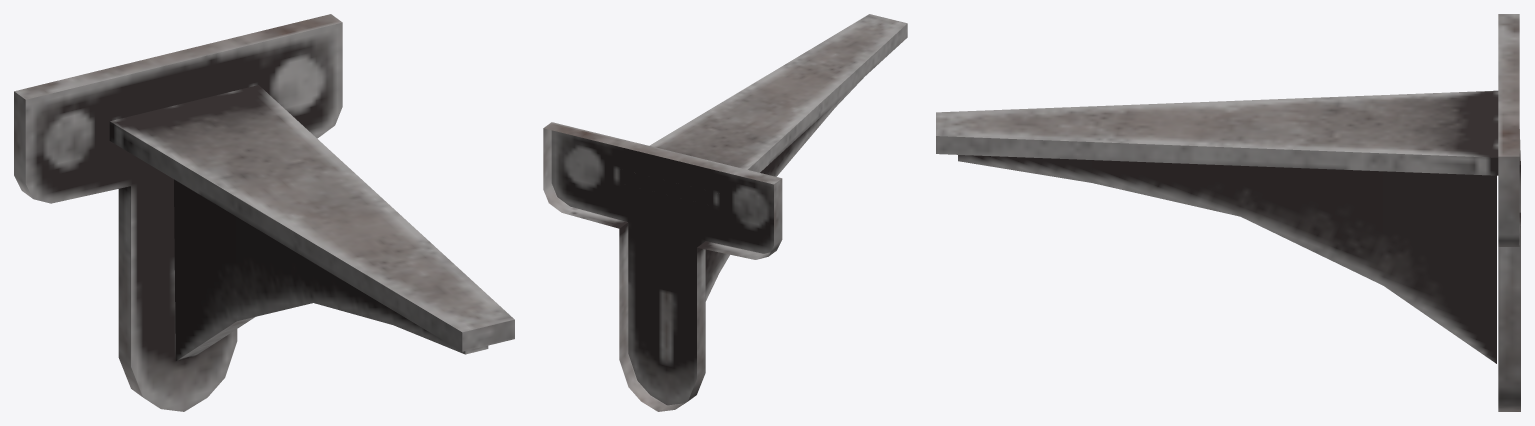
Rendered from NM_ThinTube_WallConnector_01.fbx.
3 views of the same model, side by side, from view 1: azimuth 30°, elevation 25°; view 2: azimuth 150°, elevation 25°; view 3: azimuth 270°, elevation 25° (orthographic). The views are drawn at different scales.
Parts seen in each view (by area): view 1: Tube_WallConnector02_low; view 2: Tube_WallConnector02_low; view 3: Tube_WallConnector02_low.
Part boxes in pixels (box(x1,y1,x2,y2)): Tube_WallConnector02_low: box(14, 14, 514, 411); Tube_WallConnector02_low: box(543, 14, 907, 411); Tube_WallConnector02_low: box(936, 14, 1520, 411).
Bounding box in the file's own units: 11.99 × 12.68 × 20.74.
